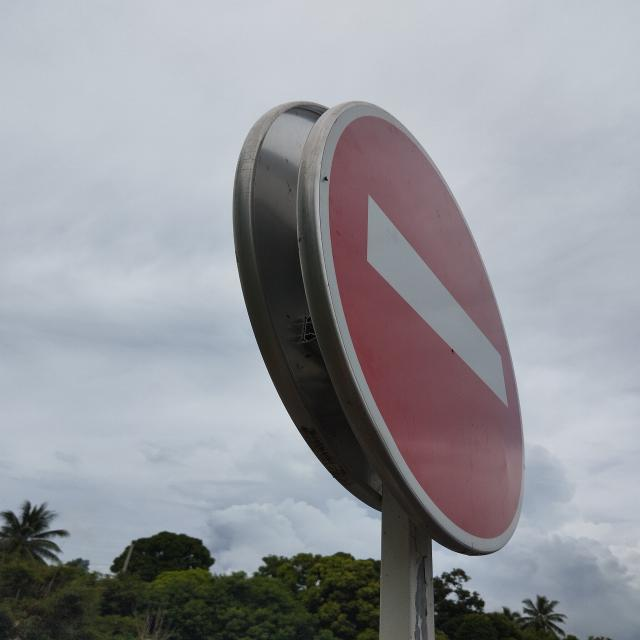Sens-Interdit: (321, 100, 527, 556)
